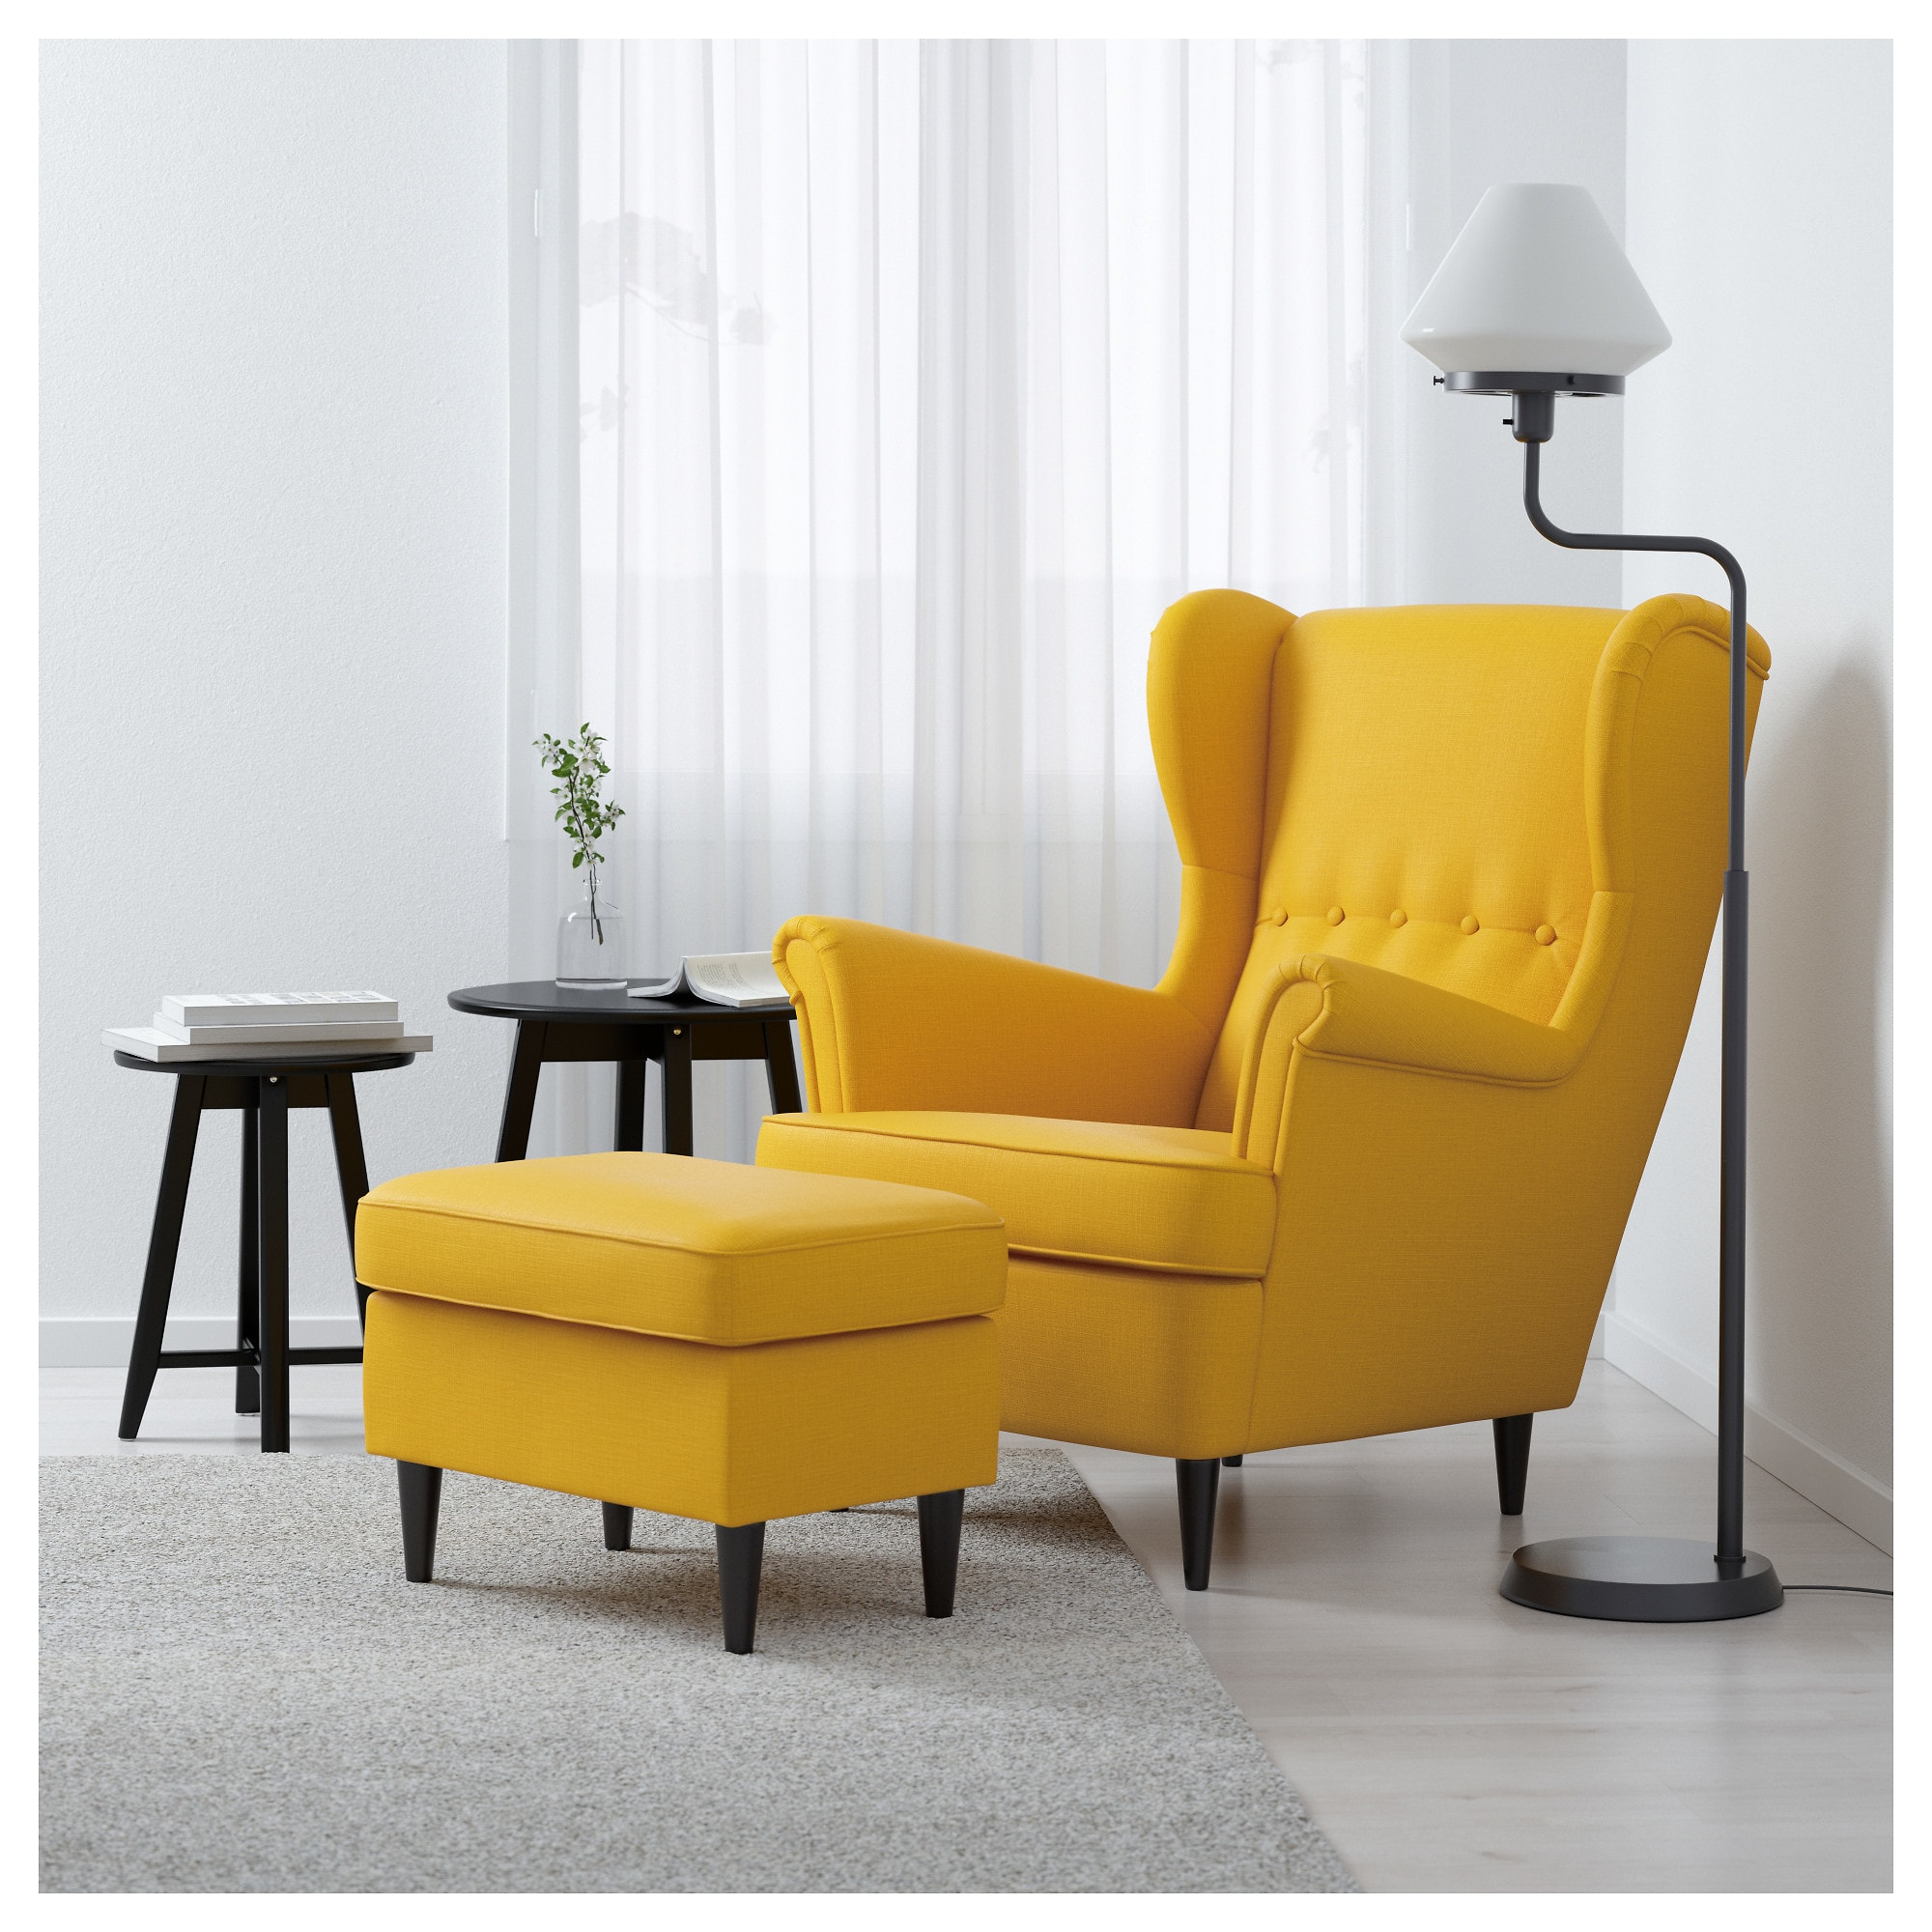chairs: (752, 573, 1778, 1591), (345, 1139, 1012, 1619)
